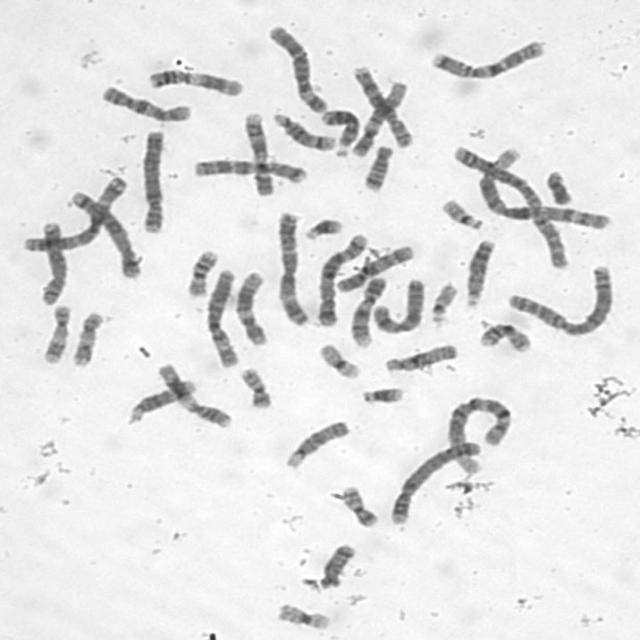A1: (477, 144, 612, 235), (442, 394, 514, 477)
A2: (452, 144, 572, 270), (507, 268, 614, 338)
A3: (19, 179, 128, 254), (270, 208, 306, 330)
B4: (390, 440, 484, 527), (136, 129, 169, 234)
B5: (69, 188, 143, 280), (314, 233, 372, 327)
C10: (331, 242, 418, 294), (96, 83, 193, 126)
C11: (153, 361, 237, 429), (140, 67, 248, 99)
C12: (348, 81, 409, 160), (233, 268, 271, 348)
C6: (264, 28, 332, 116), (200, 271, 240, 369)
C7: (424, 39, 546, 84), (194, 157, 310, 189)
C8: (347, 63, 415, 153), (33, 220, 70, 308)
C9: (240, 110, 276, 198), (348, 276, 389, 347)
D13: (461, 238, 499, 312), (318, 106, 362, 158)
D14: (125, 377, 201, 426), (268, 112, 339, 152)
D15: (282, 420, 351, 468), (381, 344, 460, 376)
E16: (472, 320, 534, 356), (185, 248, 219, 300)
E17: (69, 306, 103, 370), (38, 302, 72, 366)
E18: (316, 541, 358, 591), (360, 143, 397, 195)
F19: (315, 342, 362, 382), (276, 602, 333, 632)
F20: (332, 485, 382, 530), (238, 366, 274, 410)
G21: (300, 215, 345, 243), (356, 385, 406, 407)
G22: (438, 197, 484, 231), (428, 282, 459, 325)
X: (370, 273, 427, 335)
Y: (544, 168, 573, 206)
